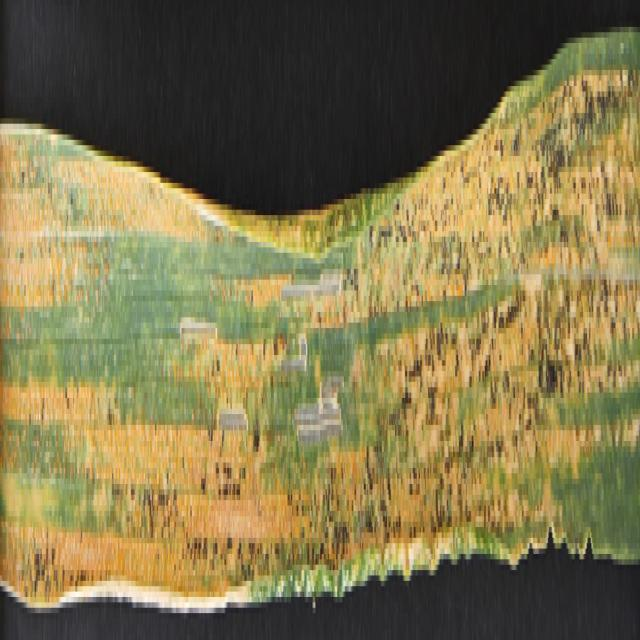leaf rust: (1, 76, 639, 586)
